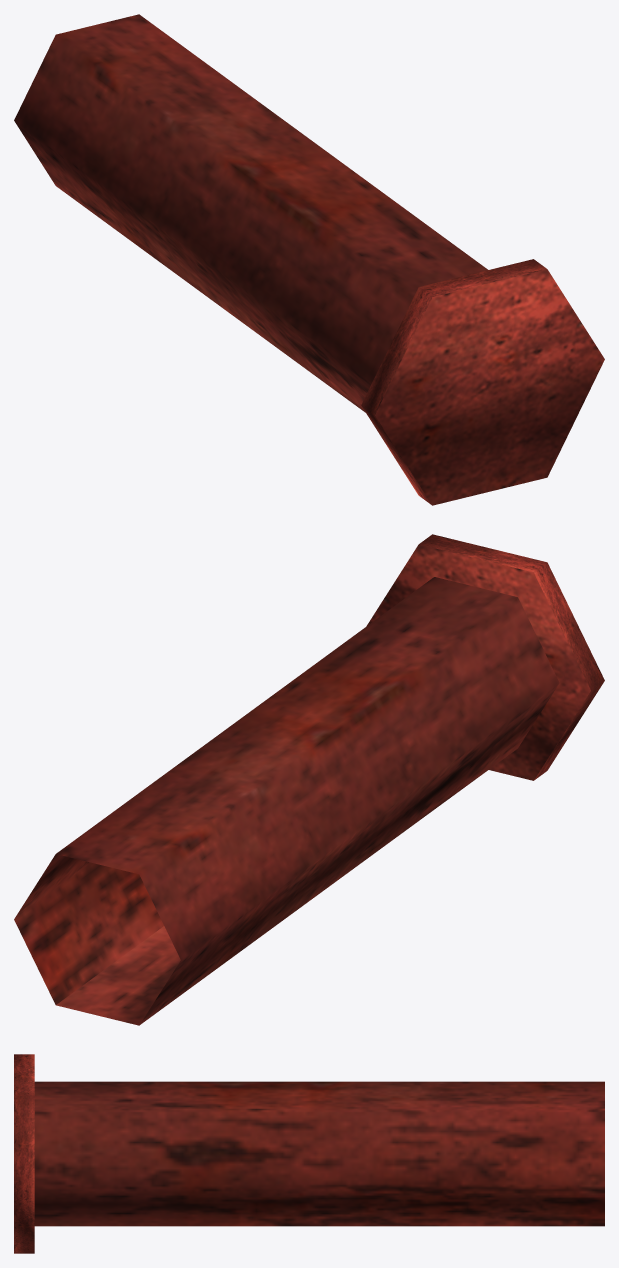
File: small_red_2.fbx
The picture shows the model from 3 angles, top to bottom: view 1: azimuth 30°, elevation 25°; view 2: azimuth 150°, elevation 25°; view 3: azimuth 270°, elevation 25°; orthographic projection. The views are drawn at different scales.
Visible parts, largest first — view 1: polySurface646; view 2: polySurface646; view 3: polySurface646.
Part boxes in pixels (x1,y1,x2,y2): polySurface646: (14, 14, 604, 505); polySurface646: (14, 534, 604, 1025); polySurface646: (14, 1054, 604, 1253).
Bounding box in the file's own units: 0.6889 × 0.5966 × 2.04.
